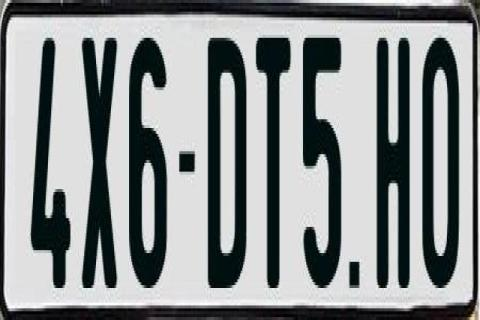0: (31, 38, 78, 294), (302, 38, 346, 302), (129, 32, 171, 285), (420, 35, 458, 285)
D: (206, 32, 247, 288)
H: (376, 38, 416, 291)
T: (254, 32, 294, 294)
X: (82, 35, 120, 291)
